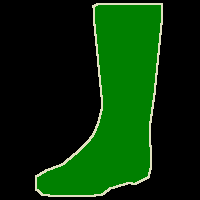shoe: (36, 4, 162, 196)
